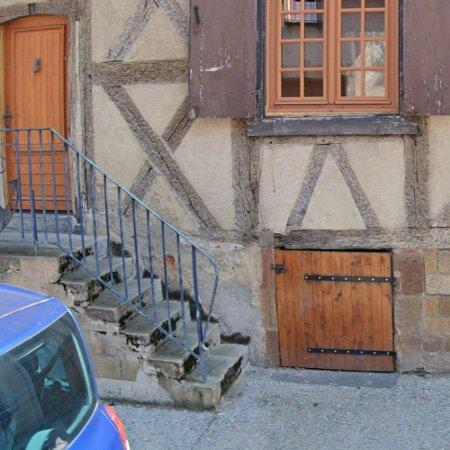stairs: (0, 131, 250, 410)
